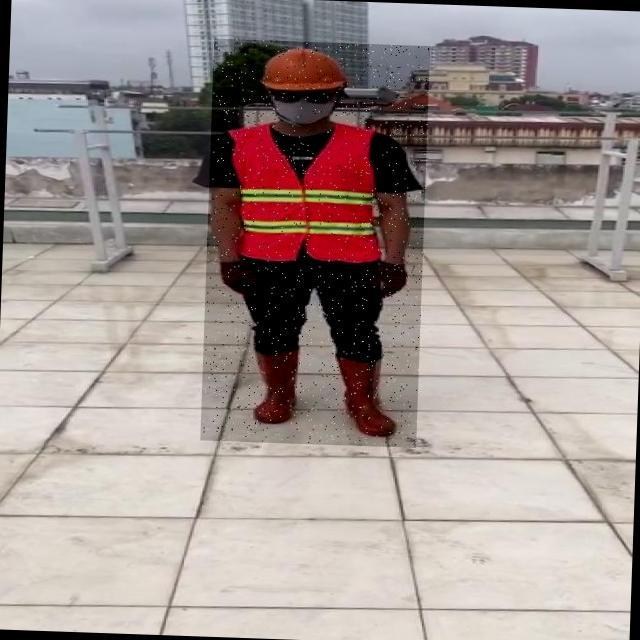Gloves: (218, 261, 260, 296), (367, 264, 408, 298)
Helmet: (257, 42, 347, 97)
Human: (200, 39, 430, 448)
Safety Boot: (330, 354, 399, 437), (247, 347, 300, 425)
Safety Vest: (226, 121, 384, 264)
